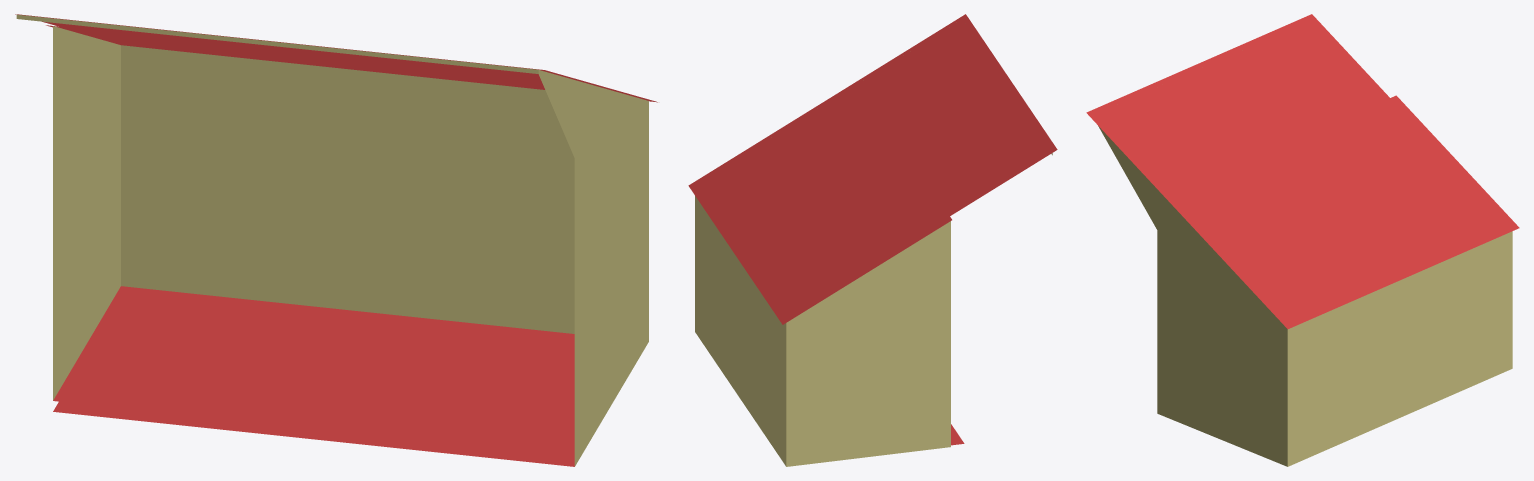
The picture shows the model from 3 angles, left to right: view 1: azimuth 30°, elevation 25°; view 2: azimuth 150°, elevation 25°; view 3: azimuth 270°, elevation 25°; orthographic projection. The views are drawn at different scales.
Size of the model in its own units: 20.64 by 20.88 by 14.61.
